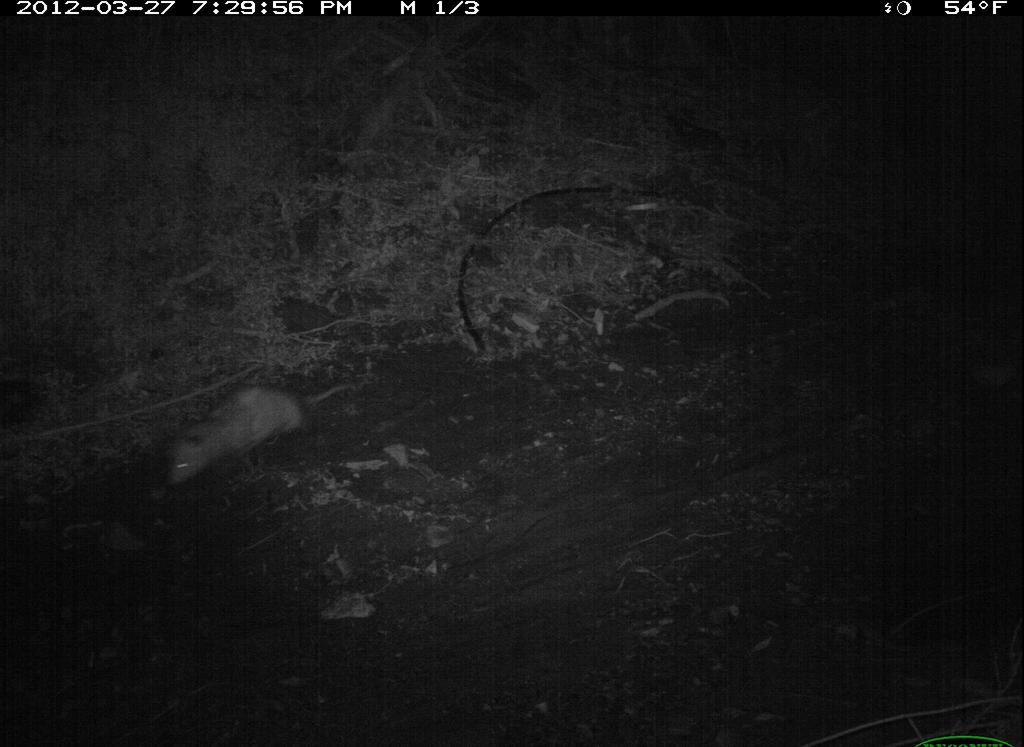opossum: (155, 364, 379, 504)
